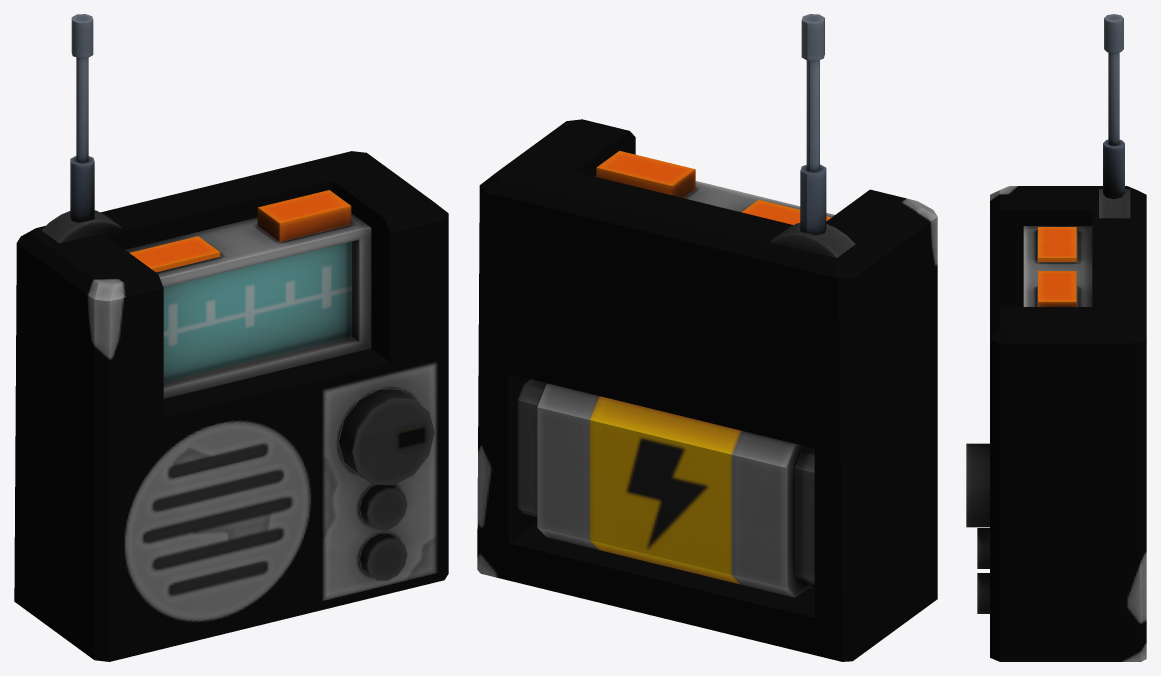
Rendered from obj_interactive_radio_on.fbx.
3 renders of one model, left to right at view 1: azimuth 30°, elevation 25°; view 2: azimuth 150°, elevation 25°; view 3: azimuth 270°, elevation 25°, orthographic. The views are drawn at different scales.
Parts seen in each view (by area): view 1: obj_interactive_radio_on_lod0; view 2: obj_interactive_radio_on_lod0; view 3: obj_interactive_radio_on_lod0.
Part boxes in pixels (x1,y1,x2,y2): obj_interactive_radio_on_lod0: [14, 14, 448, 661]; obj_interactive_radio_on_lod0: [477, 14, 937, 661]; obj_interactive_radio_on_lod0: [966, 14, 1146, 661].
Bounding box in the file's own units: 2 × 3.14 × 1.
1 material, 1 textured.
